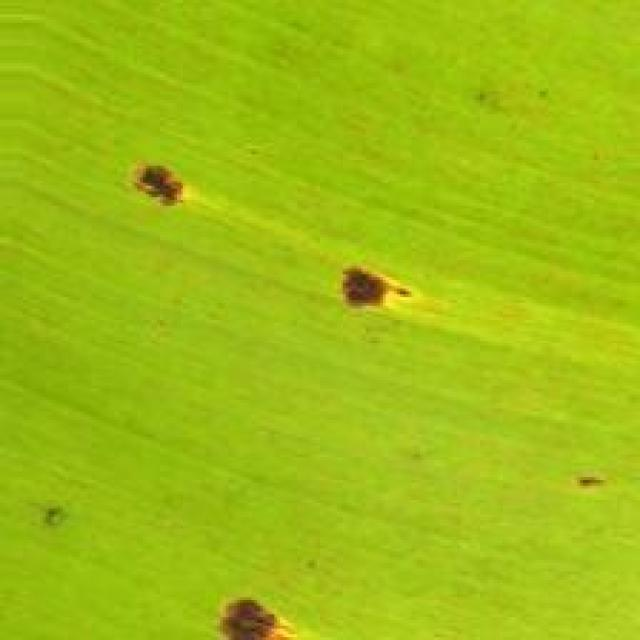Bacterial_spot: (316, 240, 414, 330), (120, 146, 192, 228), (206, 580, 290, 640), (567, 450, 613, 508)
